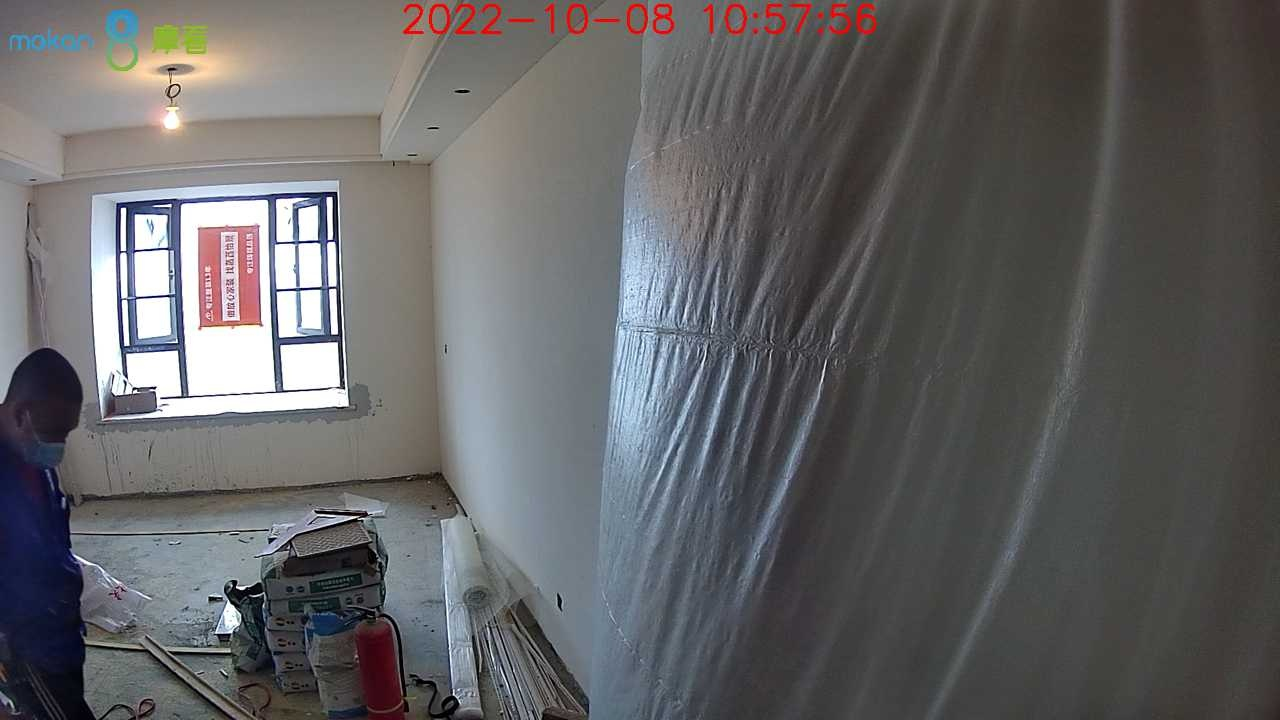people: (1, 348, 99, 720)
window: (114, 194, 347, 398)
